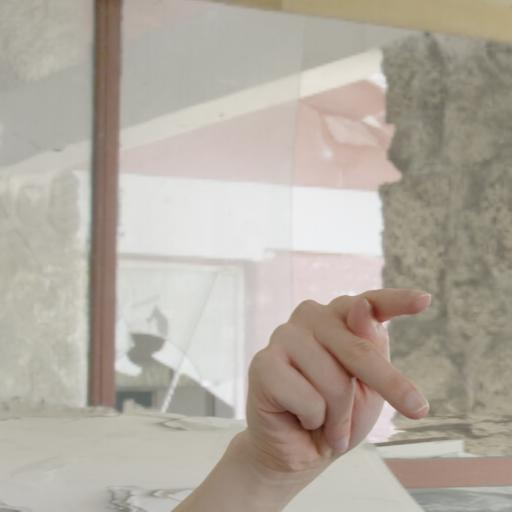P: (232, 266, 441, 480)
